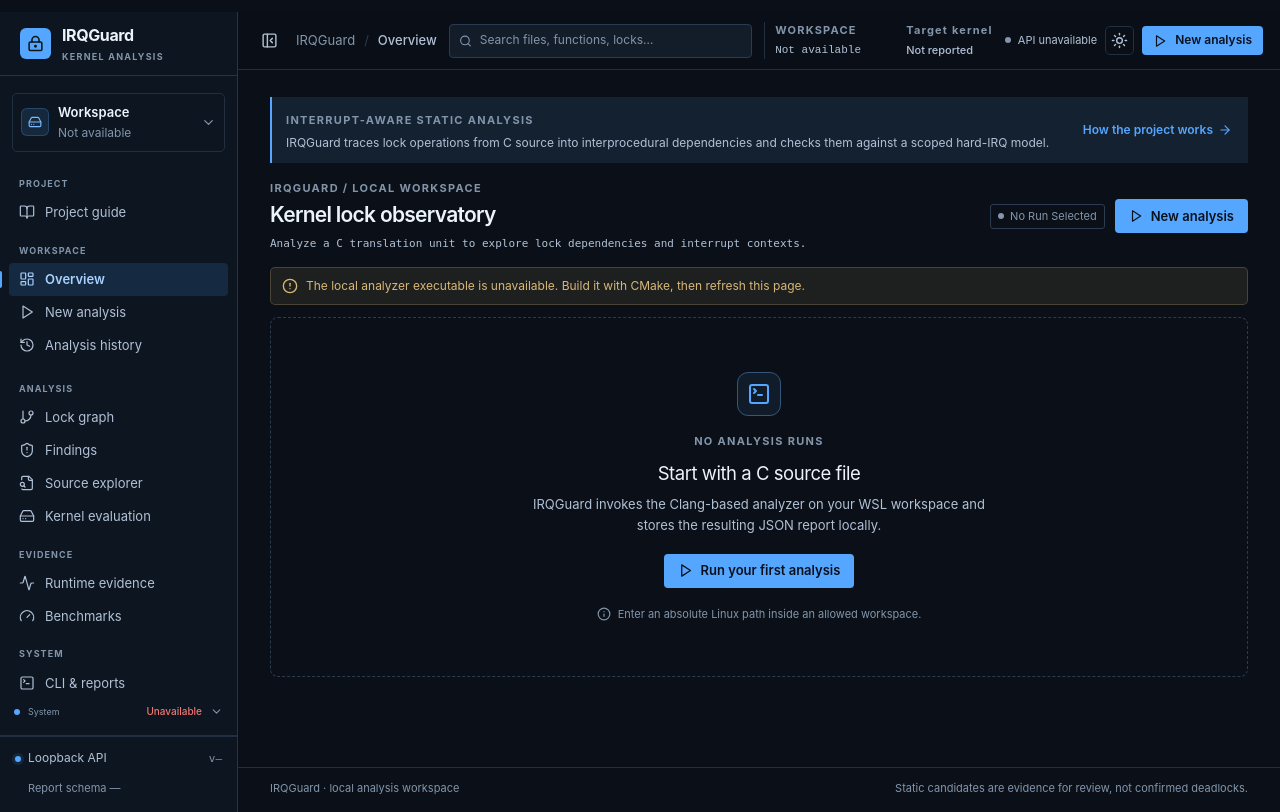
Scenario: IRQGuard workspace states › removes an already-deleted analysis when the backend returns not found
Click the button "Analysis history". click: (118, 345)
box: [9,329,228,362]
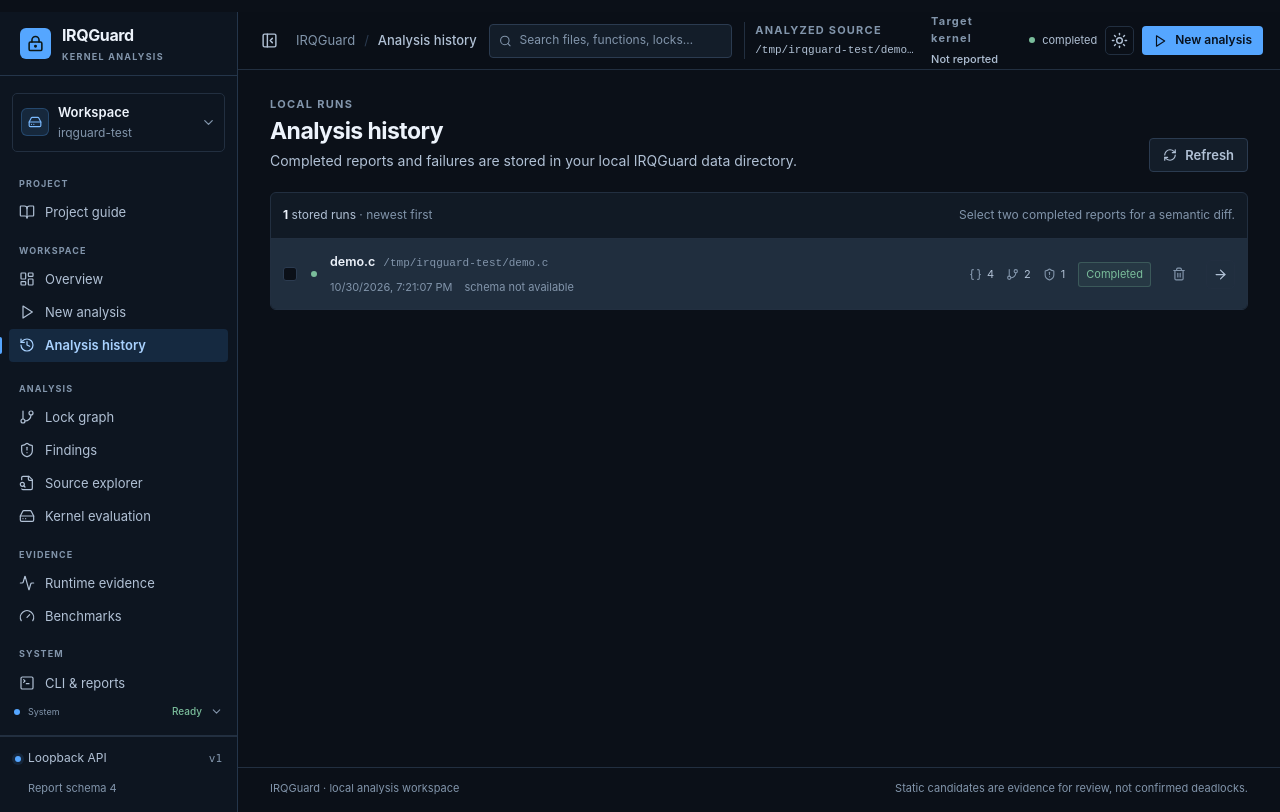
Check: the text "/tmp/irqguard-test/demo.c" below "ANALYZED SOURCE" is shown, box [755,44,920,56]
Click the button named "Delete analysis demo.c". click: (1178, 274)
box: [1164,260,1193,289]
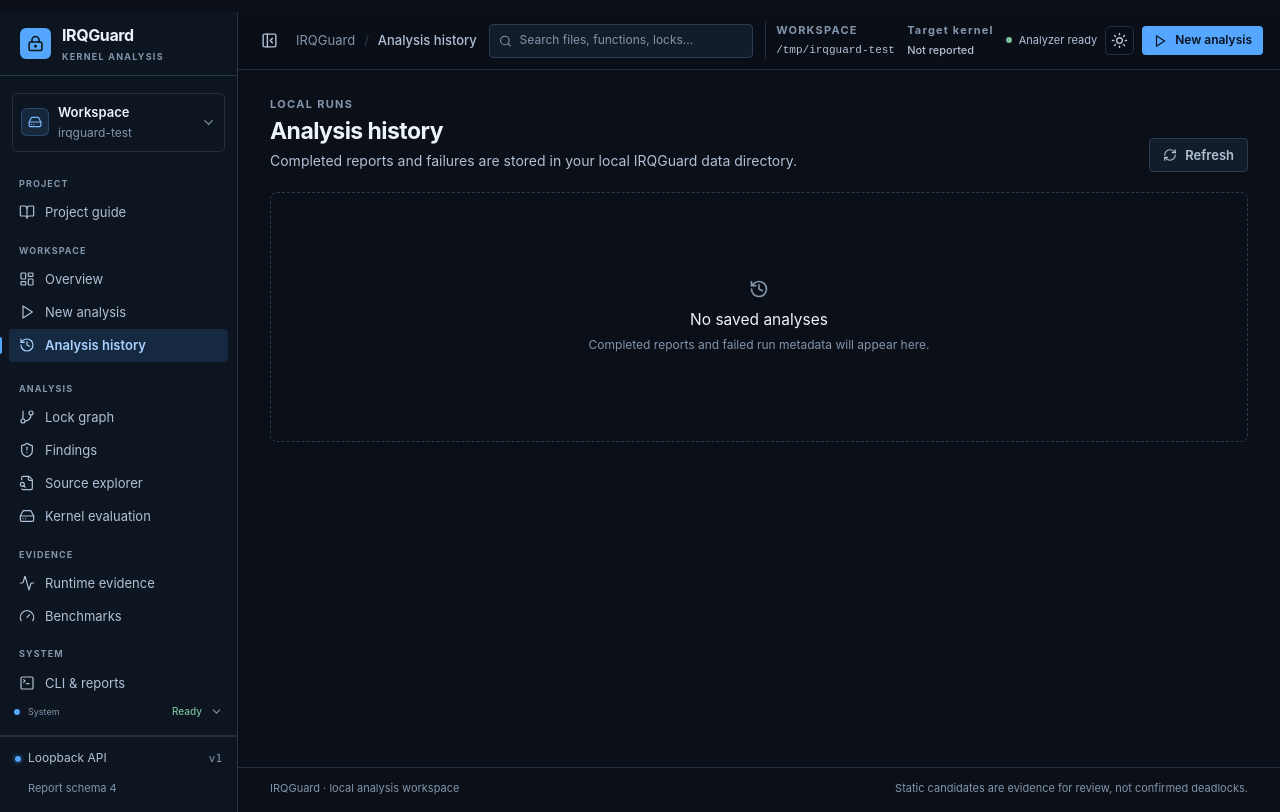
Check: the heading "No saved analyses" is shown, box [690,308,828,332]
